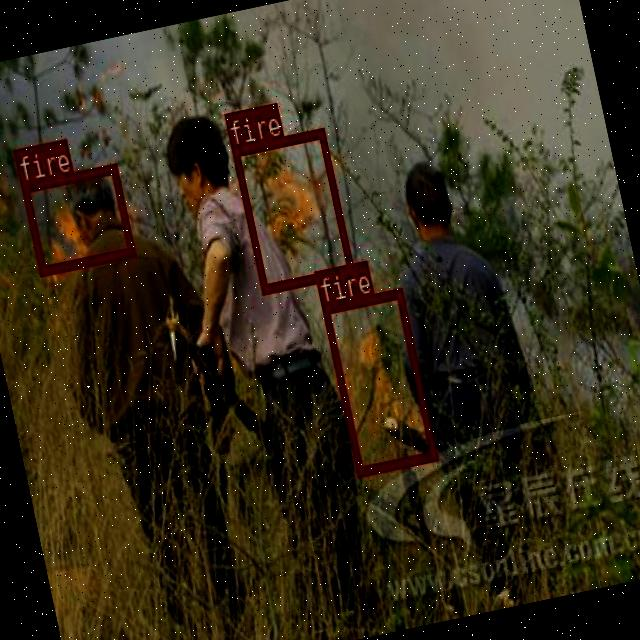fire: (319, 286, 437, 476), (230, 127, 353, 292), (20, 162, 133, 274)
